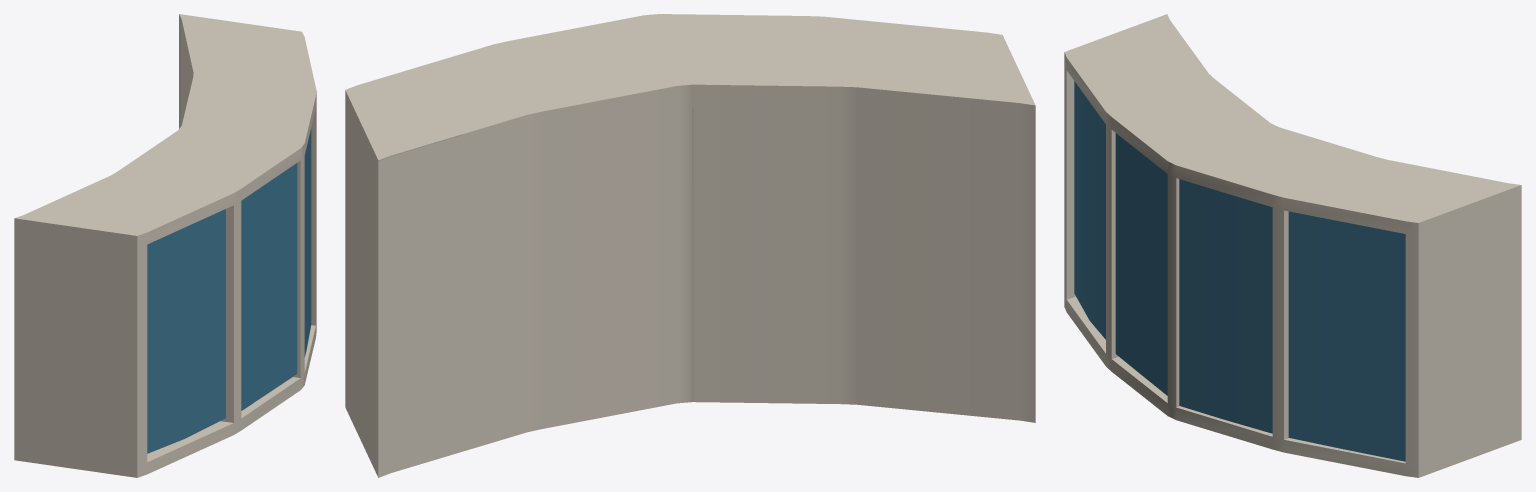
File: almara.fbx
3 views of the same model, side by side, from view 1: azimuth 30°, elevation 25°; view 2: azimuth 150°, elevation 25°; view 3: azimuth 270°, elevation 25° (orthographic). The views are drawn at different scales.
Parts seen in each view (by area): view 1: polySurface2122; view 2: polySurface2122; view 3: polySurface2122.
Boxes of the visible parts, box(x1,y1,x2,y2) form: polySurface2122: box(14, 14, 316, 477); polySurface2122: box(345, 14, 1035, 477); polySurface2122: box(1064, 14, 1521, 477).
Size of the model in its own units: 669 by 380 by 618.
1 material, 1 textured.
